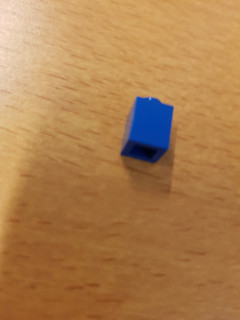1x1 blue: (117, 92, 178, 168)
